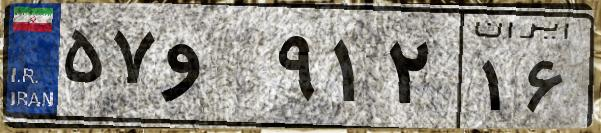1: (330, 28, 385, 110), (475, 38, 525, 113)
2: (385, 28, 445, 110)
5: (57, 26, 110, 100)
6: (525, 38, 570, 115)
7: (110, 28, 158, 98)
9: (270, 28, 330, 110)
و: (158, 20, 270, 120)
